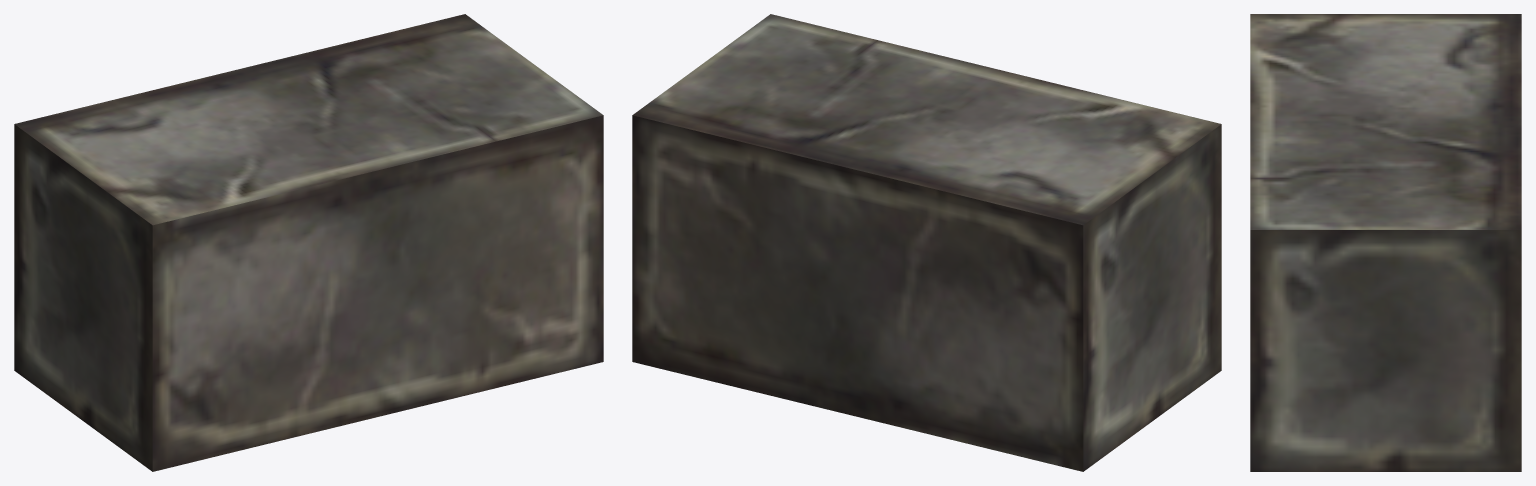
Rendered from Z_zhuan001.fbx.
3 renders of one model, left to right at view 1: azimuth 30°, elevation 25°; view 2: azimuth 150°, elevation 25°; view 3: azimuth 270°, elevation 25°, orthographic.
Parts seen in each view (by area): view 1: Z_zhuan001; view 2: Z_zhuan001; view 3: Z_zhuan001.
Boxes of the visible parts, x1,y1,x2,y2 form: Z_zhuan001: [14, 14, 603, 471]; Z_zhuan001: [632, 14, 1221, 471]; Z_zhuan001: [1250, 14, 1521, 471].
Size of the model in its own units: 106 by 55.34 by 56.29.
